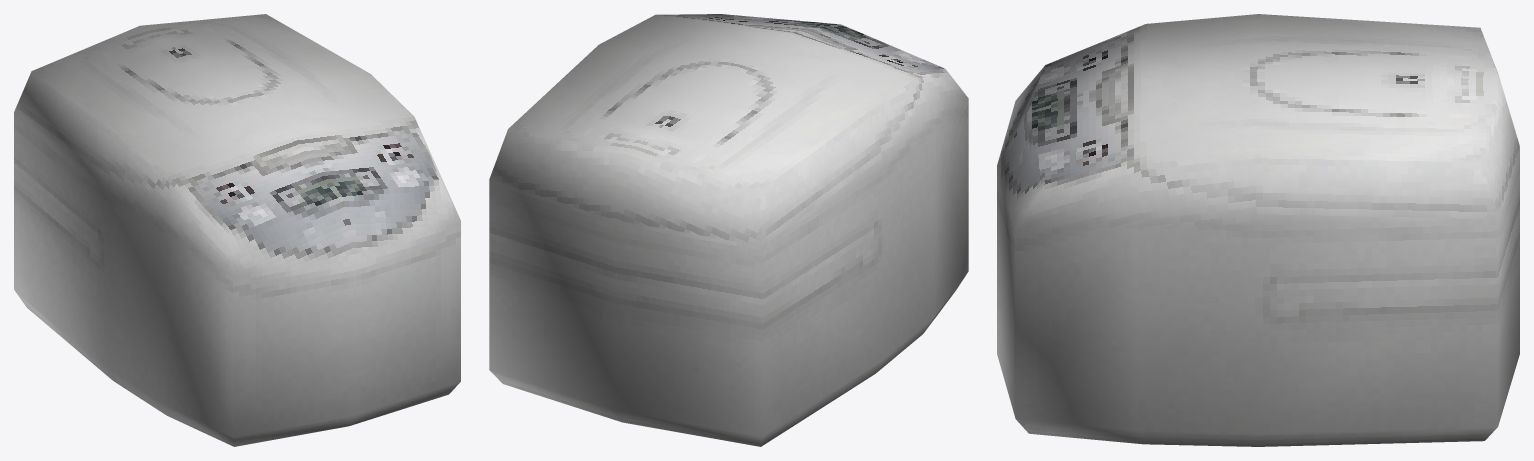
File: RiceCooker.glb
3 renders of one model, left to right at view 1: azimuth 30°, elevation 25°; view 2: azimuth 150°, elevation 25°; view 3: azimuth 270°, elevation 25°, orthographic. The views are drawn at different scales.
Visible parts, largest first — view 1: rice cooker; view 2: rice cooker; view 3: rice cooker.
Boxes of the visible parts, x1,y1,x2,y2 form: rice cooker: (14, 14, 460, 446); rice cooker: (489, 14, 968, 446); rice cooker: (997, 14, 1519, 446).
Size of the model in its own units: 0.25 by 0.22 by 0.35.
1 material, 1 textured.
